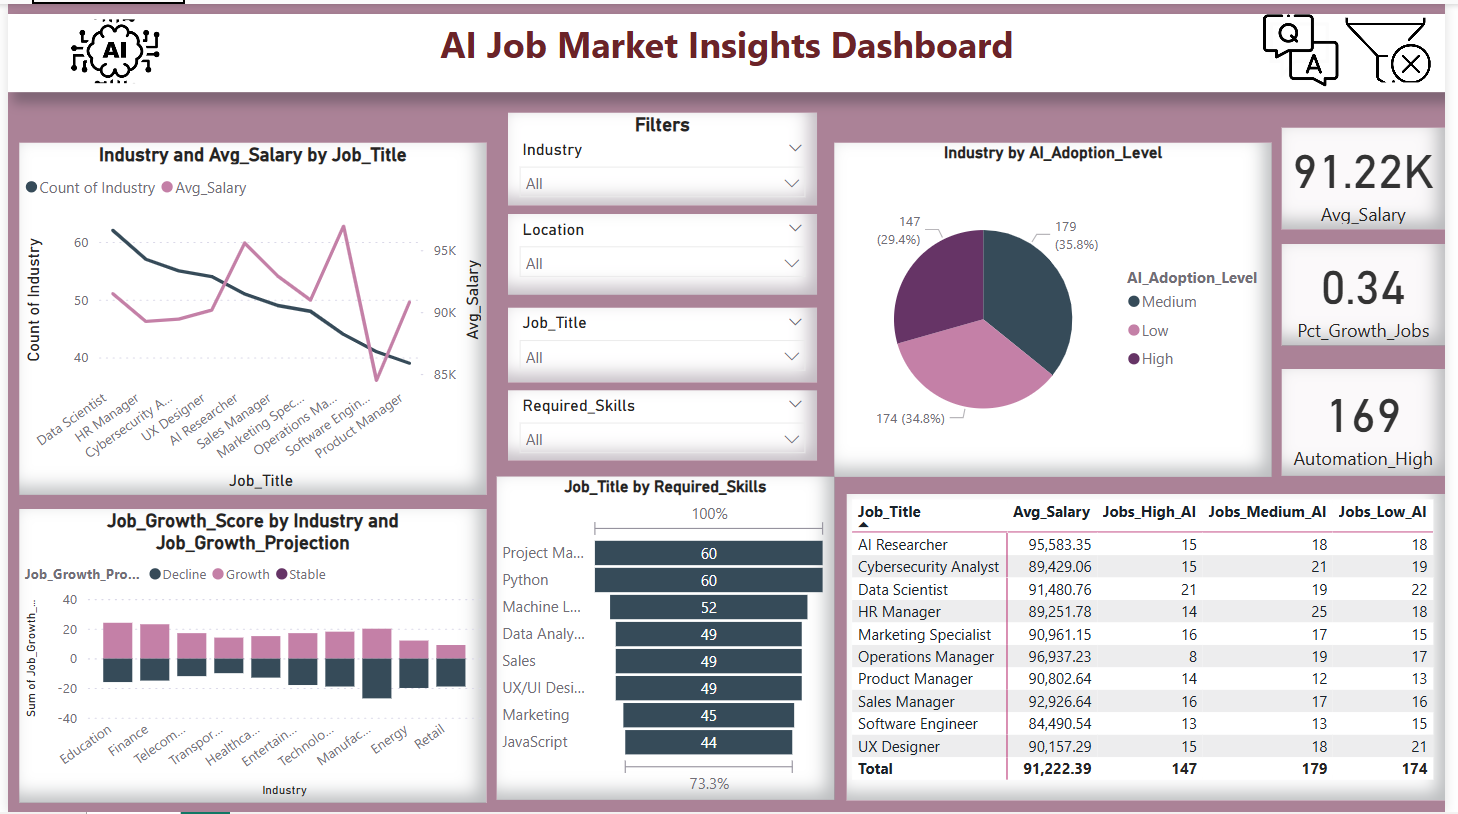

Layout of this report page (visuals, bound fields, positions):
{"tool":"powerbi","page":{"name":"Page 1","canvas":[1280,720],"ordinal":0},"visuals":[{"type":"card","fields":{"Values":["ai_job_market_insights.Avg_Salary"]},"box":[1134.8,110.1,145.5,90.5],"z":0},{"type":"card","fields":{"Values":["ai_job_market_insights.Automation_High"]},"box":[1134.8,325.3,145.5,95.4],"z":1000},{"type":"card","fields":{"Values":["ai_job_market_insights.Pct_Growth_Jobs"]},"box":[1134.8,214,145.5,90.5],"z":2000},{"type":"pieChart","title":" Industry by AI_Adoption_Level","fields":{"Category":["ai_job_market_insights.AI_Adoption_Level"],"Y":["CountNonNull(ai_job_market_insights.Industry)"]},"box":[735.9,123.1,389.7,298],"z":3000},{"type":"columnChart","title":"Job_Growth_Score by Industry and Job_Growth_Projection","fields":{"Category":["ai_job_market_insights.Industry"],"Y":["Sum(ai_job_market_insights.Job_Growth_Score)"],"Series":["ai_job_market_insights.Job_Growth_Projection"]},"box":[9.7,450,416.2,261.8],"z":4000},{"type":"slicer","title":"Filters","fields":{"Values":["ai_job_market_insights.Industry"]},"box":[445.2,96.5,275.1,82],"z":5000},{"type":"slicer","fields":{"Values":["ai_job_market_insights.Location"]},"box":[445.2,187,275.1,72.4],"z":6000},{"type":"slicer","fields":{"Values":["ai_job_market_insights.Job_Title"]},"box":[445.2,270.2,275.1,66.4],"z":7000},{"type":"slicer","fields":{"Values":["ai_job_market_insights.Required_Skills"]},"box":[445.2,343.8,275.1,62.7],"z":8000},{"type":"textbox","box":[0,8.6,1280.3,69.7],"z":9000},{"type":"pivotTable","fields":{"Values":["ai_job_market_insights.Avg_Salary","ai_job_market_insights.Jobs_High_AI","ai_job_market_insights.Jobs_Medium_AI","ai_job_market_insights.Jobs_Low_AI"],"Rows":["ai_job_market_insights.Job_Title"]},"box":[747.2,436.6,533.2,272.7],"z":10000},{"type":"lineChart","title":" Industry and Avg_Salary by Job_Title","fields":{"Category":["ai_job_market_insights.Job_Title"],"Y2":["ai_job_market_insights.Avg_Salary"],"Y":["CountNonNull(ai_job_market_insights.Industry)"]},"box":[9.7,123.1,416.2,313.7],"z":11000},{"type":"funnel","title":" Job_Title by Required_Skills","fields":{"Y":["CountNonNull(ai_job_market_insights.Job_Title)"],"Category":["ai_job_market_insights.Required_Skills"]},"box":[435.5,421,300.4,288.3],"z":12000},{"type":"actionButton","box":[1191,12.2,75.8,57.5],"z":13000},{"type":"actionButton","box":[1117.7,8.6,67.3,64.8],"z":14000},{"type":"image","box":[50.7,8.4,89.3,66.4],"z":14001}]}

Visuals, with their boxes in screenshot pixels (x1, y1, x2, y2), scaled from the page's 1280x720 canvas onto the 1458x814 screenshot:
card - ai_job_market_insights.Avg_Salary: [x1=1293, y1=124, x2=1457, y2=227]
card - ai_job_market_insights.Automation_High: [x1=1293, y1=368, x2=1457, y2=476]
card - ai_job_market_insights.Pct_Growth_Jobs: [x1=1293, y1=242, x2=1457, y2=344]
" Industry by AI_Adoption_Level" pieChart: [x1=838, y1=139, x2=1282, y2=476]
"Job_Growth_Score by Industry and Job_Growth_Projection" columnChart: [x1=11, y1=509, x2=485, y2=805]
"Filters" slicer: [x1=507, y1=109, x2=820, y2=202]
slicer - ai_job_market_insights.Location: [x1=507, y1=211, x2=820, y2=293]
slicer - ai_job_market_insights.Job_Title: [x1=507, y1=305, x2=820, y2=381]
slicer - ai_job_market_insights.Required_Skills: [x1=507, y1=389, x2=820, y2=460]
textbox: [x1=0, y1=10, x2=1457, y2=89]
pivotTable - ai_job_market_insights.Avg_Salary x ai_job_market_insights.Jobs_High_AI: [x1=851, y1=494, x2=1457, y2=802]
" Industry and Avg_Salary by Job_Title" lineChart: [x1=11, y1=139, x2=485, y2=494]
" Job_Title by Required_Skills" funnel: [x1=496, y1=476, x2=838, y2=802]
actionButton: [x1=1357, y1=14, x2=1443, y2=79]
actionButton: [x1=1273, y1=10, x2=1350, y2=83]
image: [x1=58, y1=9, x2=159, y2=85]
